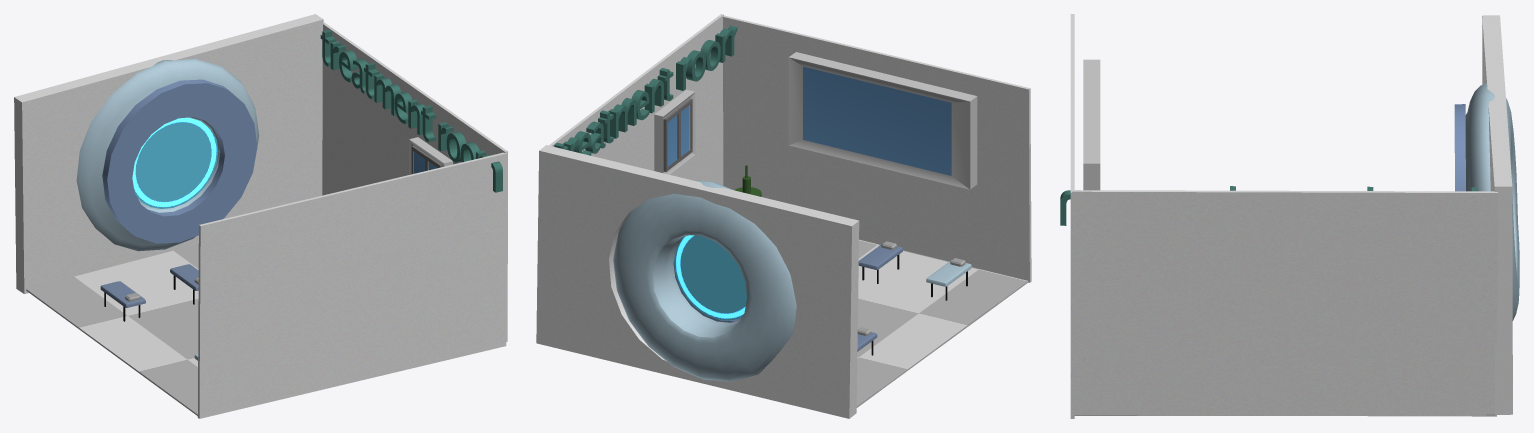
File: internalroom2.fbx
3 views of the same model, side by side, from view 1: azimuth 30°, elevation 25°; view 2: azimuth 150°, elevation 25°; view 3: azimuth 270°, elevation 25° (orthographic). The views are drawn at different scales.
Parts seen in each view (by area): view 1: pCube4, pasted__polySurface4, pCube1, polySurface1, pasted__pCube4, pTorus2, doorinner, name, pasted__pasted__pCube5, pasted__pasted__pCube2, pasted__pasted__pasted__pCube2; view 2: pasted__polySurface4, pCube4, pTorus2, pasted__pCube5, pCube1, pasted__pCube4, name, doorinner, pasted__pasted__pCube5, pasted__pCube2 (×2), pasted__pasted__pCube6, pasted__pasted__pasted__pCube6; view 3: pasted__pCube4, pasted__polySurface4, pTorus2, pasted__pCube5, pCube4, polySurface1.
Boxes of the visible parts, x1,y1,x2,y2 form: pCube4: [197, 152, 507, 418]; pasted__polySurface4: [14, 14, 323, 293]; pCube1: [26, 244, 198, 415]; polySurface1: [102, 79, 257, 243]; pasted__pCube4: [322, 22, 507, 341]; pTorus2: [76, 58, 259, 251]; doorinner: [132, 117, 218, 208]; name: [320, 29, 502, 192]; pasted__pasted__pCube5: [409, 137, 452, 174]; pasted__pasted__pCube2: [100, 281, 145, 307]; pasted__pasted__pasted__pCube2: [170, 264, 198, 290]; pasted__polySurface4: [536, 145, 859, 418]; pCube4: [723, 15, 1031, 282]; pTorus2: [613, 180, 796, 381]; pasted__pCube5: [788, 52, 977, 189]; pCube1: [856, 239, 1028, 407]; pasted__pCube4: [549, 14, 723, 185]; name: [554, 25, 737, 155]; doorinner: [674, 235, 746, 320]; pasted__pasted__pCube5: [654, 89, 695, 174]; pasted__pCube2 (×2): [858, 243, 971, 286]; pasted__pasted__pCube6: [663, 108, 679, 171]; pasted__pasted__pasted__pCube6: [677, 98, 692, 161]; pasted__pCube4: [1071, 190, 1497, 416]; pasted__polySurface4: [1482, 15, 1512, 414]; pTorus2: [1465, 83, 1519, 320]; pasted__pCube5: [1083, 59, 1100, 190]; pCube4: [1070, 14, 1074, 418]; polySurface1: [1454, 104, 1465, 191].
Size of the model in its own units: 24.67 by 14.87 by 26.69.
Materials: 30 (4 with a texture image).
